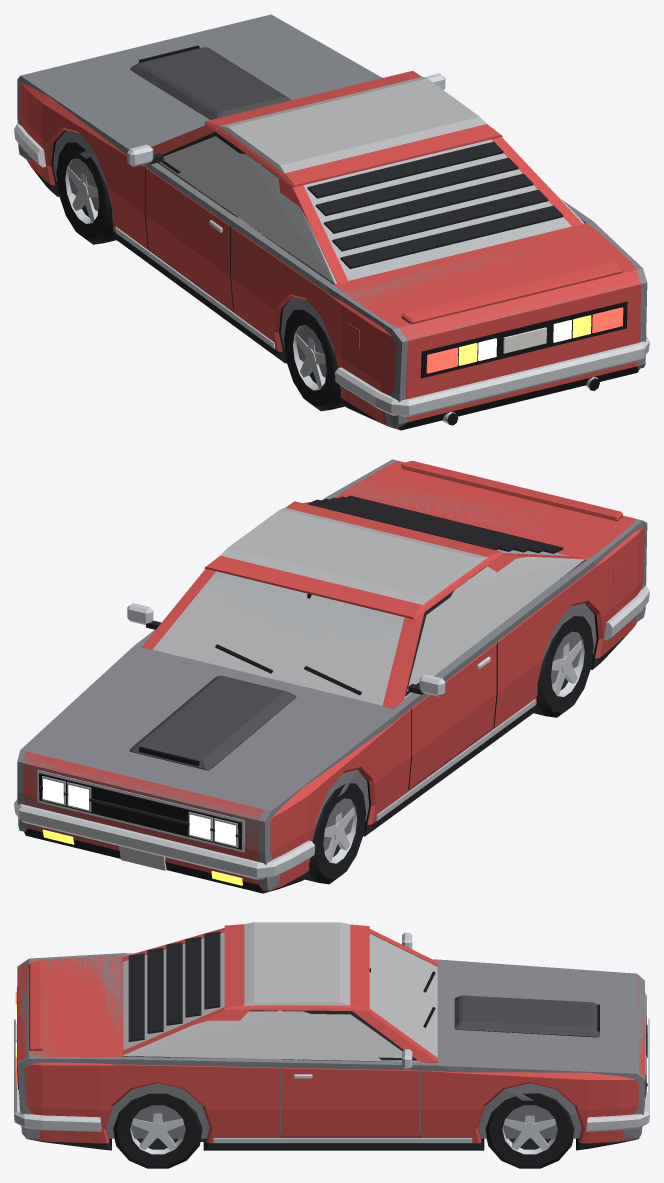
The model's file is car_muscle.glb.
3 views of the same model, one above another, from view 1: azimuth 30°, elevation 25°; view 2: azimuth 150°, elevation 25°; view 3: azimuth 270°, elevation 25° (orthographic). The views are drawn at different scales.
Visible parts, largest first — view 1: car_muscle__body, car_muscle__col_cabin, car_muscle__col_body, car_muscle__door_fl, car_muscle__wheel_rl, car_muscle__wheel_fl; view 2: car_muscle__body, car_muscle__col_cabin, car_muscle__col_body, car_muscle__door_fl, car_muscle__wheel_rl, car_muscle__wheel_fl; view 3: car_muscle__body, car_muscle__col_body, car_muscle__col_cabin, car_muscle__door_fr, car_muscle__wheel_rr, car_muscle__wheel_fr.
Boxes of the visible parts, x1=… form: car_muscle__body: x1=14, y1=45, x2=649, y2=430; car_muscle__col_cabin: x1=159, y1=76, x2=584, y2=283; car_muscle__col_body: x1=17, y1=14, x2=647, y2=428; car_muscle__door_fl: x1=127, y1=132, x2=258, y2=310; car_muscle__wheel_rl: x1=284, y1=309, x2=344, y2=411; car_muscle__wheel_fl: x1=56, y1=142, x2=116, y2=244; car_muscle__body: x1=14, y1=460, x2=649, y2=893; car_muscle__col_cabin: x1=152, y1=507, x2=584, y2=705; car_muscle__col_body: x1=17, y1=459, x2=647, y2=891; car_muscle__door_fl: x1=405, y1=581, x2=496, y2=789; car_muscle__wheel_rl: x1=534, y1=616, x2=593, y2=717; car_muscle__wheel_fl: x1=305, y1=783, x2=365, y2=884; car_muscle__body: x1=14, y1=924, x2=649, y2=1150; car_muscle__col_body: x1=17, y1=953, x2=644, y2=1138; car_muscle__col_cabin: x1=123, y1=922, x2=437, y2=1061; car_muscle__door_fr: x1=281, y1=1010, x2=419, y2=1136; car_muscle__wheel_rr: x1=113, y1=1093, x2=202, y2=1168; car_muscle__wheel_fr: x1=485, y1=1093, x2=574, y2=1168.
Size of what is drawn, in the model's own units: 2.32 by 1.35 by 4.96.
Materials: 10 (2 with a texture image).
